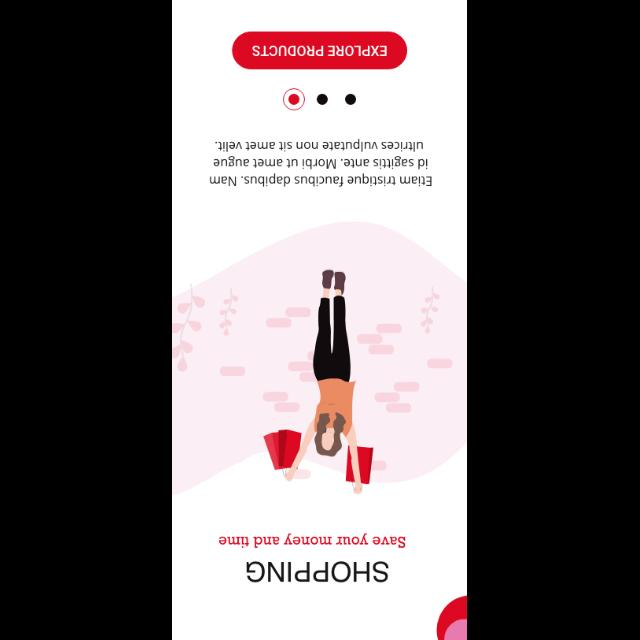image: (173, 221, 467, 495)
pageindicator: (282, 87, 358, 111)
text: (210, 138, 432, 188), (245, 560, 388, 582), (218, 532, 406, 548)
textbutton: (232, 32, 408, 68)
